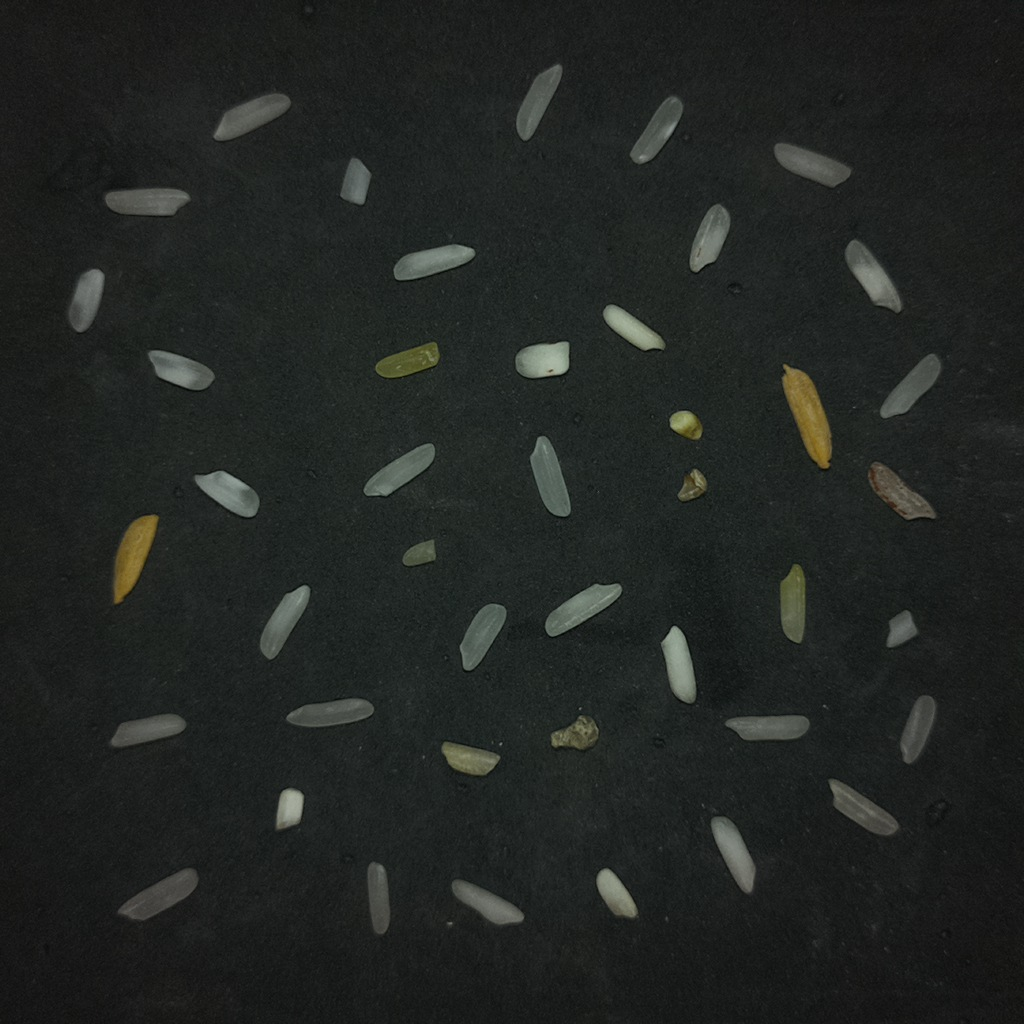broken: (194, 470, 259, 517), (689, 204, 730, 272), (148, 350, 214, 390), (67, 268, 104, 332), (596, 868, 637, 918), (340, 157, 371, 205), (886, 610, 918, 648), (402, 540, 435, 566)
chalky: (845, 239, 902, 312), (712, 816, 755, 893), (393, 243, 475, 280), (602, 304, 665, 350), (661, 625, 697, 704), (515, 341, 569, 378), (275, 788, 303, 830)
damaged: (550, 716, 598, 750)
discolored: (375, 343, 439, 378), (441, 741, 499, 776), (780, 563, 805, 643), (677, 468, 708, 502), (669, 410, 702, 439)
paddy: (782, 364, 831, 469), (113, 514, 158, 604)
red: (868, 462, 936, 519)
whole: (117, 868, 197, 920), (545, 584, 621, 636), (828, 780, 898, 835), (880, 354, 941, 417), (260, 585, 310, 659), (213, 93, 290, 141), (364, 443, 435, 495), (630, 95, 683, 163), (516, 64, 562, 140), (774, 143, 850, 187), (451, 879, 523, 925), (530, 435, 570, 517), (460, 603, 505, 670), (109, 713, 185, 748), (286, 698, 374, 727), (900, 695, 936, 764), (104, 188, 190, 216), (725, 715, 809, 741), (367, 862, 390, 935)
